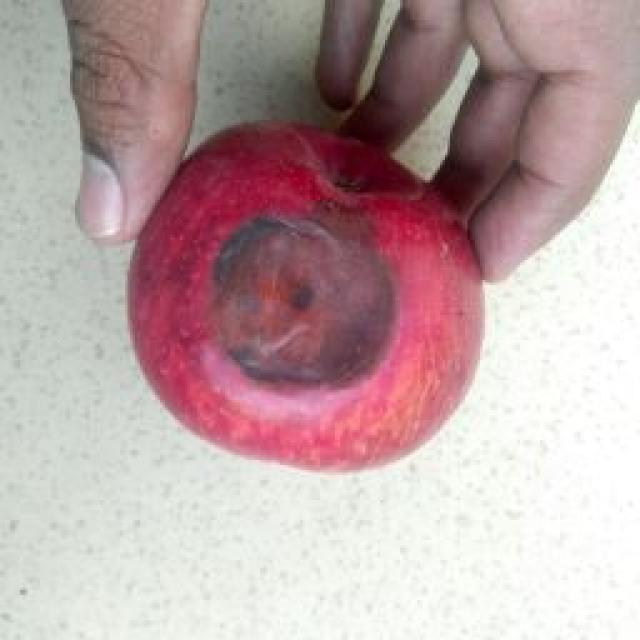Bad_Apple: (129, 125, 482, 469)
